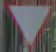Give way: (6, 0, 51, 51)
